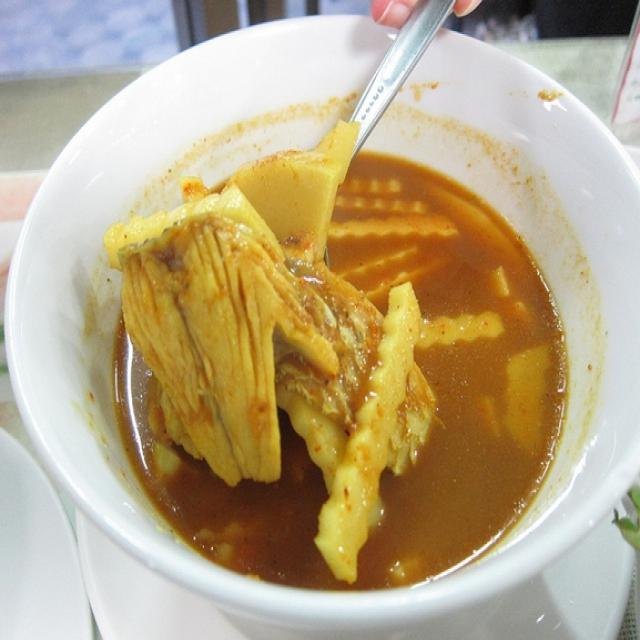汤锅炖物: (60, 54, 608, 598)
